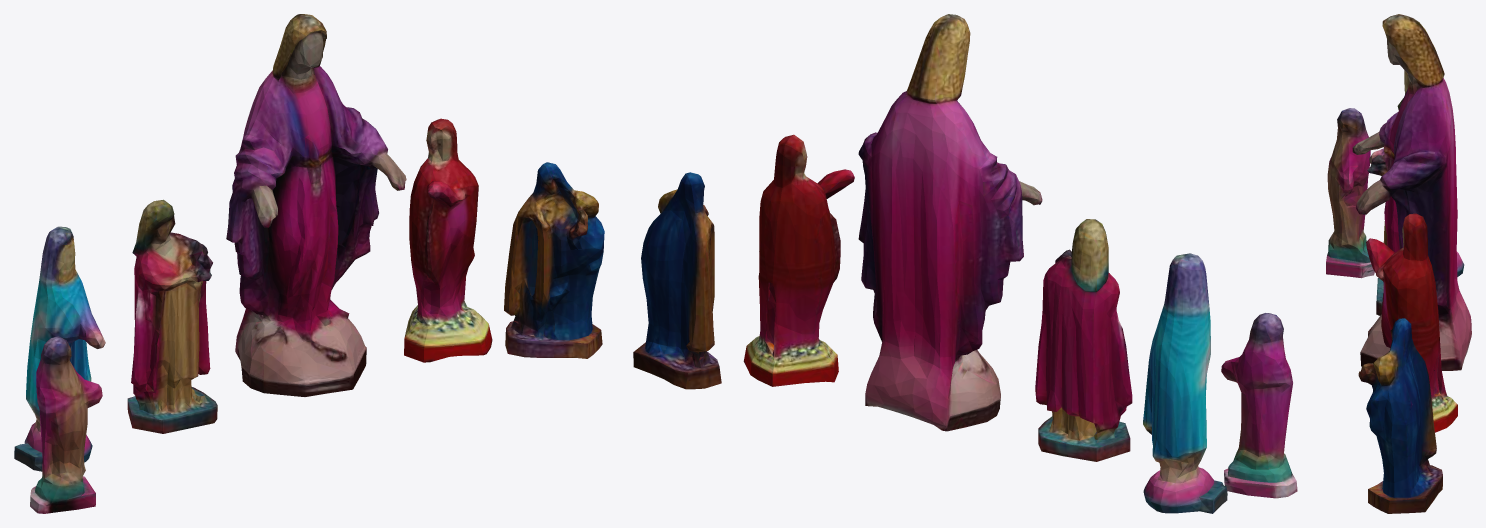
3 renders of one model, left to right at view 1: azimuth 30°, elevation 25°; view 2: azimuth 150°, elevation 25°; view 3: azimuth 270°, elevation 25°, orthographic. The views are drawn at different scales.
Parts seen in each view (by area): view 1: world; view 2: world; view 3: world.
Boxes of the visible parts, x1,y1,x2,y2 form: world: (14,14,604,513); world: (633,14,1297,513); world: (1326,14,1471,513).
Size of the model in its own units: 0.9965 by 0.6453 by 0.2288.
1 material, 1 textured.
